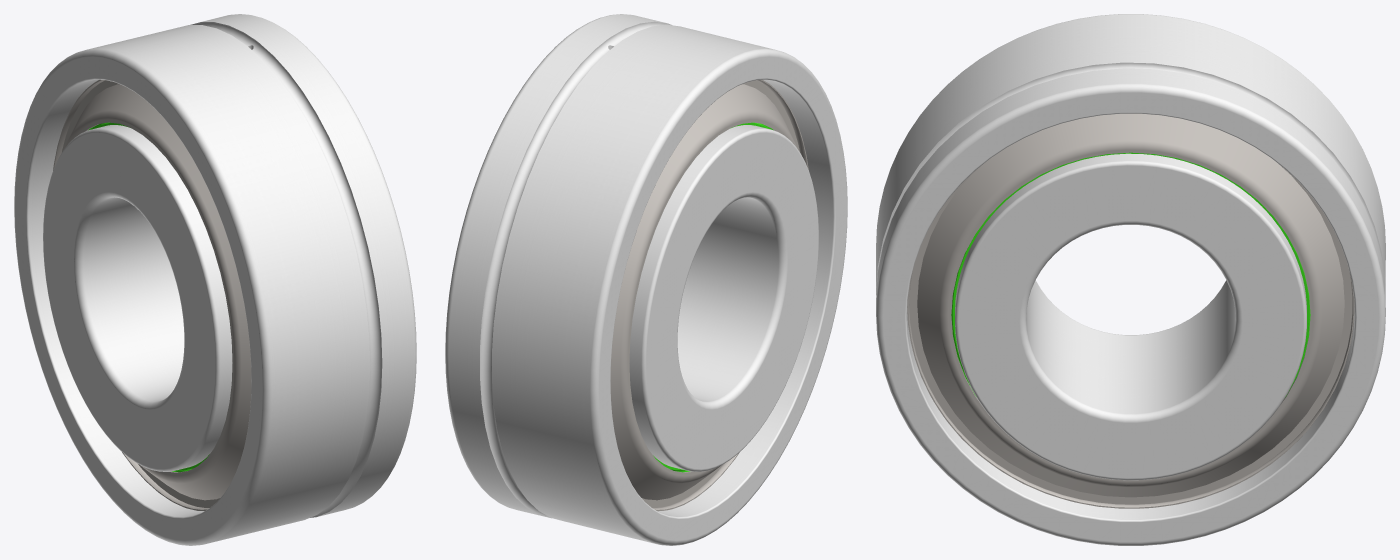
File: GW212KPP52-R-GX.glb
The picture shows the model from 3 angles, left to right: view 1: azimuth 30°, elevation 25°; view 2: azimuth 150°, elevation 25°; view 3: azimuth 270°, elevation 25°; orthographic projection.
Parts seen in each view (by area): view 1: texture-2, texture, polished steel; view 2: texture-2, texture, polished steel; view 3: texture-2, texture, polished steel, glossy rubber.
Part boxes in pixels (x1,y1,x2,y2): texture-2: (14,14,416,545); texture: (43,125,232,471); polished steel: (53,79,251,511); texture-2: (445,14,847,545); texture: (629,125,818,471); polished steel: (610,79,808,511); texture-2: (876,14,1385,545); texture: (955,153,1306,480); polished steel: (907,113,1354,508); glossy rubber: (951,152,1310,396).
Size of the model in its own units: 0.0429 by 0.11 by 0.11.
6 materials, 2 textured.
